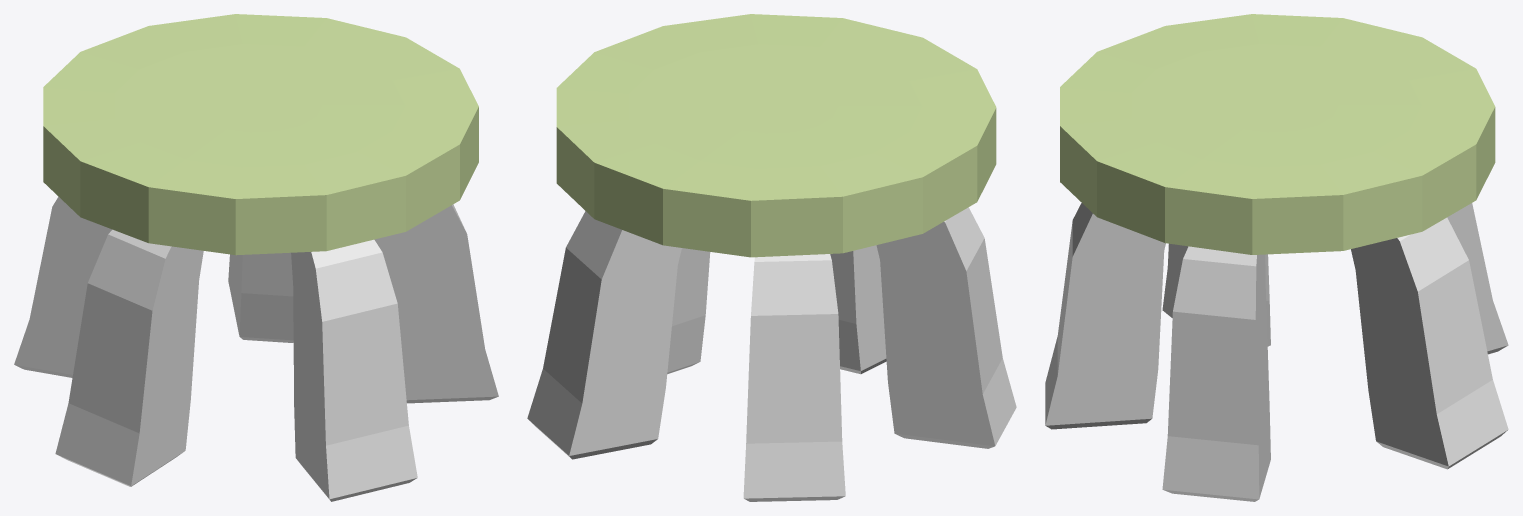
The model's file is table.fbx.
3 renders of one model, left to right at view 1: azimuth 30°, elevation 25°; view 2: azimuth 150°, elevation 25°; view 3: azimuth 270°, elevation 25°, orthographic.
Visible parts, largest first — view 1: Cylinder; view 2: Cylinder; view 3: Cylinder.
Part boxes in pixels (x1,y1,x2,y2): Cylinder: (14, 14, 498, 501); Cylinder: (527, 14, 1016, 501); Cylinder: (1045, 14, 1508, 501).
Bounding box in the file's own units: 265 × 184 × 252.
